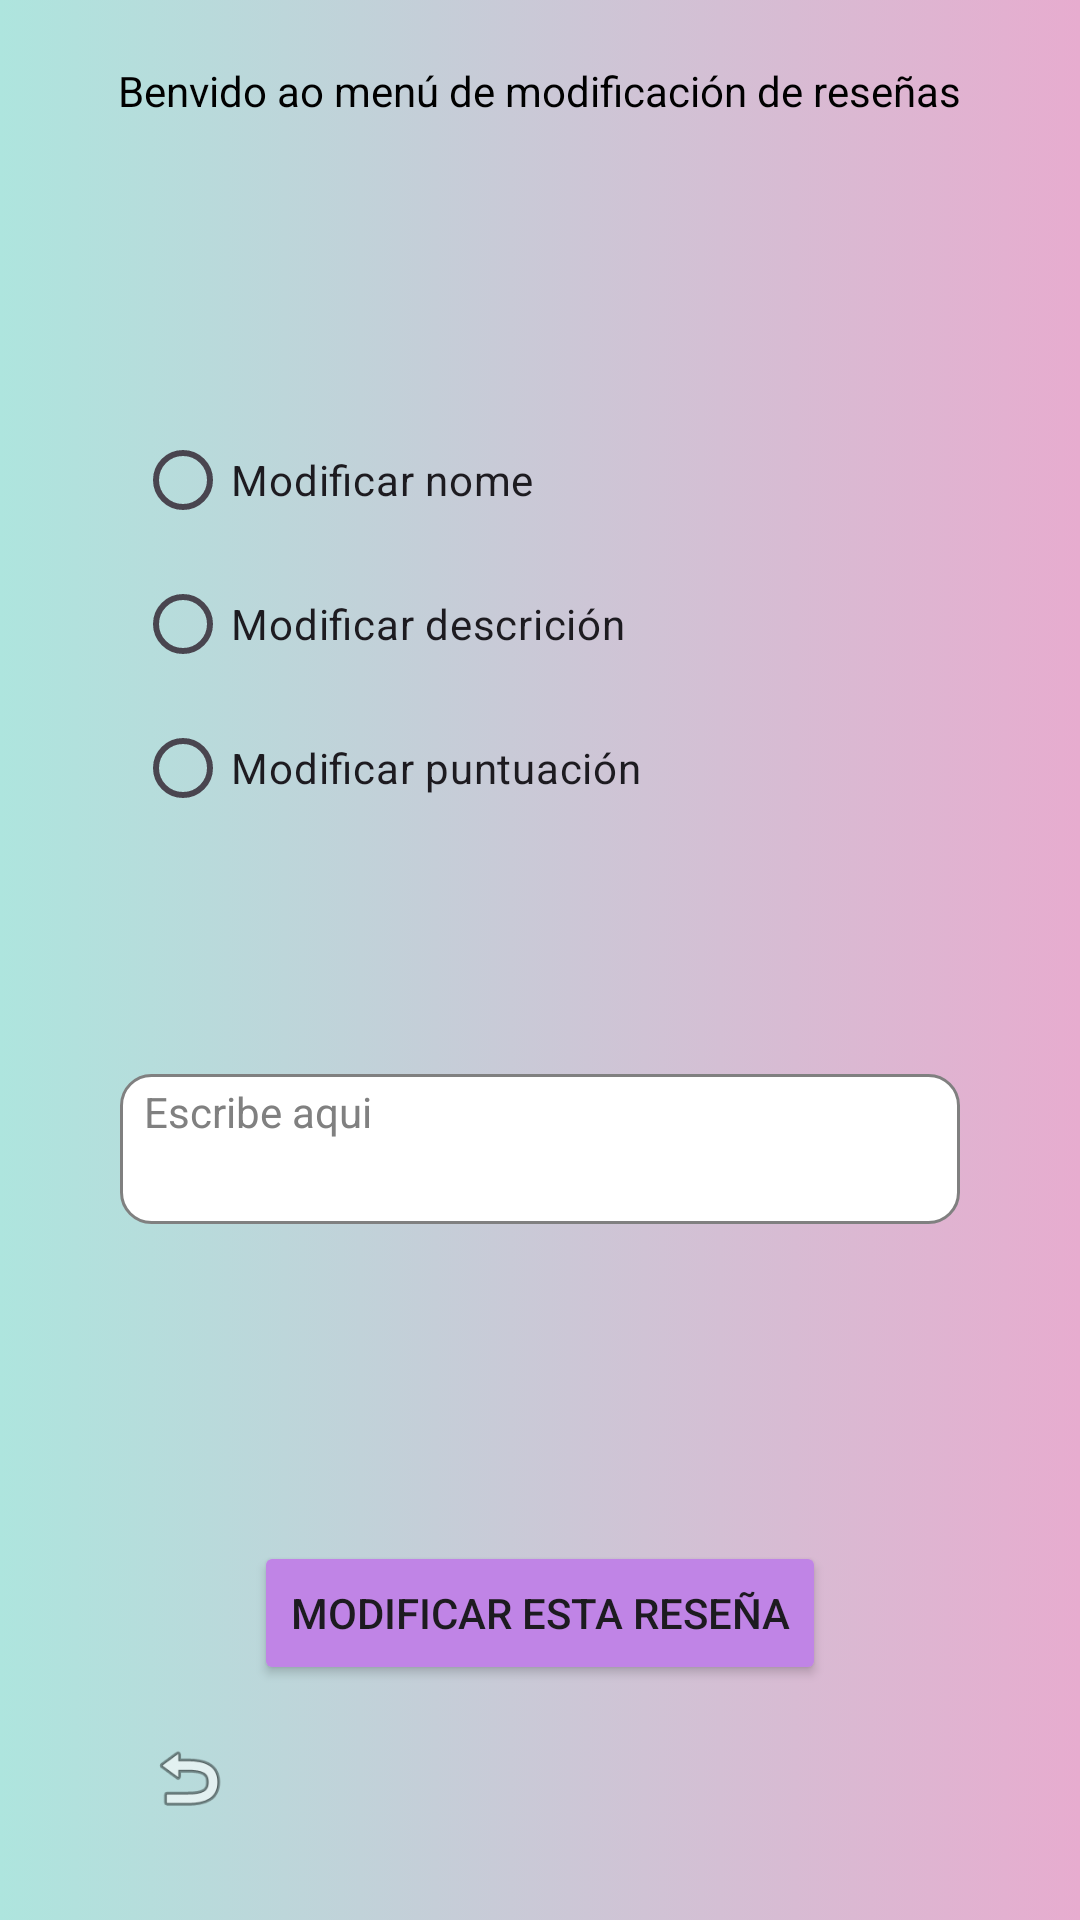

Icons on this 1080 x 1920 Android screen, each with the point to tap as point (x, y):
revert: point (190, 1778)
